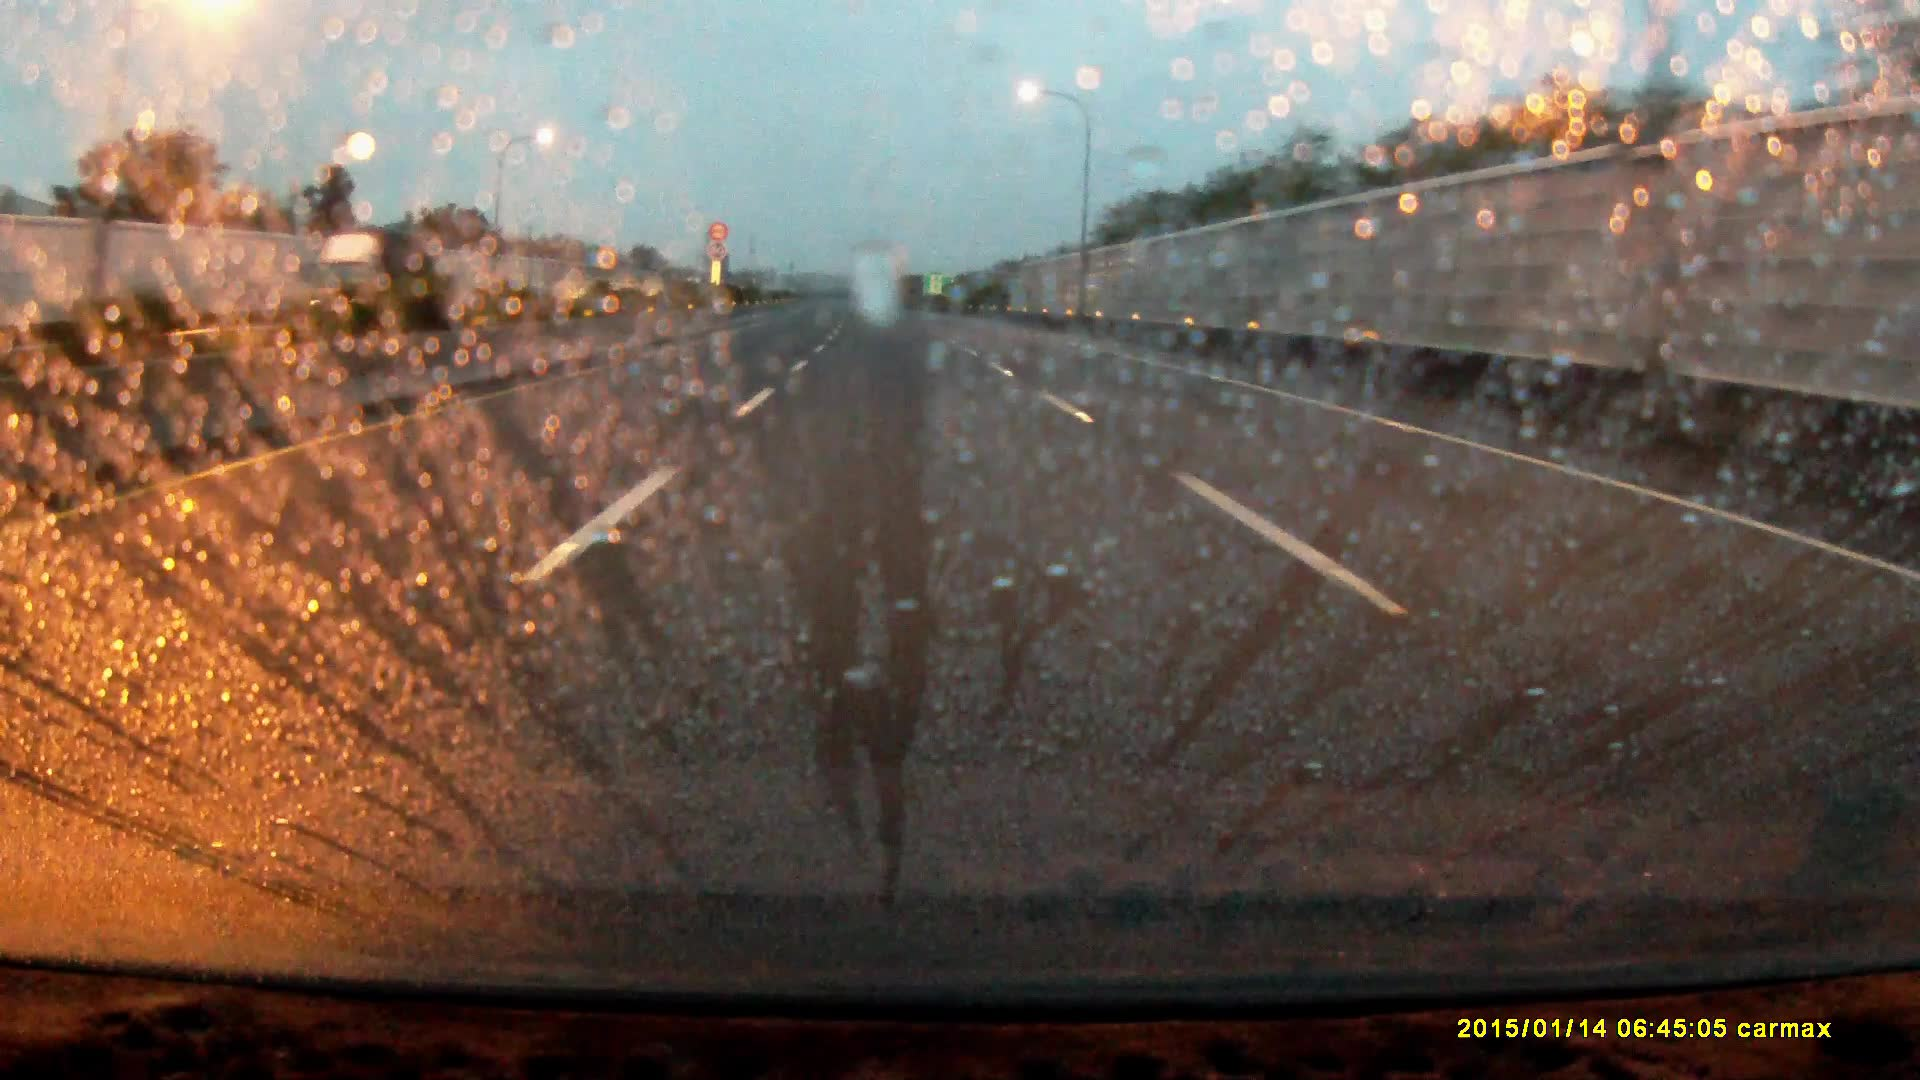vehicle: (313, 225, 436, 322)
